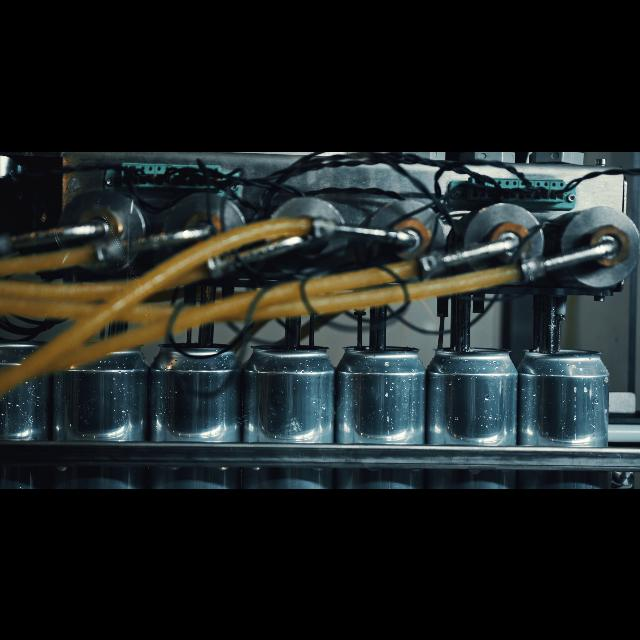empty: (241, 328, 331, 488), (523, 322, 609, 488), (152, 336, 235, 488), (60, 336, 142, 488), (342, 339, 424, 488), (438, 336, 516, 488), (0, 328, 48, 488)
